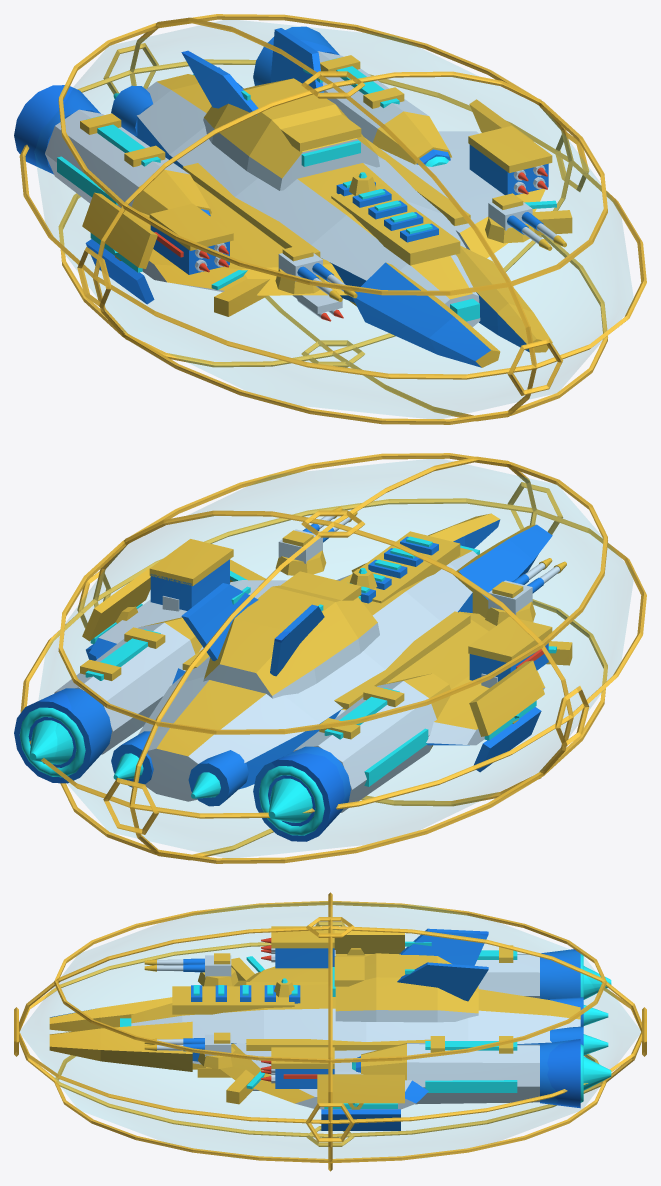
The model's file is horizon_tachyon_cruiser.obj.
3 renders of one model, top to bottom at view 1: azimuth 30°, elevation 25°; view 2: azimuth 150°, elevation 25°; view 3: azimuth 270°, elevation 25°, orthographic. The views are drawn at different scales.
Visible parts, largest first — view 1: Cruiser_Reinforced_Particle_Shield, Cruiser_Reinforced_Hull_Core, Cruiser_Particle_Shield_HexReinforcement, Cruiser_Cyan_Engine_Nacelles, Cruiser_Forward_Swept_Wings_And_Armor, Cruiser_Command_Bridge_And_Spine, Cruiser_Missile_Mounts, Cruiser_Laser_Mounts; view 2: Cruiser_Reinforced_Particle_Shield, Cruiser_Cyan_Engine_Nacelles, Cruiser_Particle_Shield_HexReinforcement, Cruiser_Reinforced_Hull_Core, Cruiser_Command_Bridge_And_Spine, Cruiser_Forward_Swept_Wings_And_Armor, Cruiser_Missile_Mounts, Cruiser_Laser_Mounts, Cruiser_Shield_Projectors; view 3: Cruiser_Reinforced_Particle_Shield, Cruiser_Reinforced_Hull_Core, Cruiser_Particle_Shield_HexReinforcement, Cruiser_Cyan_Engine_Nacelles, Cruiser_Command_Bridge_And_Spine, Cruiser_Forward_Swept_Wings_And_Armor, Cruiser_Missile_Mounts, Cruiser_Laser_Mounts, Cruiser_Shield_Projectors.
Boxes of the visible parts, x1=… form: Cruiser_Reinforced_Particle_Shield: x1=35, y1=20, x2=632, y2=418; Cruiser_Reinforced_Hull_Core: x1=135, y1=74, x2=552, y2=367; Cruiser_Particle_Shield_HexReinforcement: x1=19, y1=14, x2=646, y2=424; Cruiser_Cyan_Engine_Nacelles: x1=14, y1=26, x2=451, y2=216; Cruiser_Forward_Swept_Wings_And_Armor: x1=82, y1=99, x2=572, y2=316; Cruiser_Command_Bridge_And_Spine: x1=181, y1=28, x2=438, y2=242; Cruiser_Missile_Mounts: x1=149, y1=125, x2=552, y2=321; Cruiser_Laser_Mounts: x1=275, y1=193, x2=566, y2=301; Cruiser_Reinforced_Particle_Shield: x1=39, y1=459, x2=632, y2=857; Cruiser_Cyan_Engine_Nacelles: x1=14, y1=617, x2=450, y2=841; Cruiser_Particle_Shield_HexReinforcement: x1=20, y1=453, x2=646, y2=863; Cruiser_Reinforced_Hull_Core: x1=138, y1=513, x2=552, y2=801; Cruiser_Command_Bridge_And_Spine: x1=181, y1=536, x2=438, y2=698; Cruiser_Forward_Swept_Wings_And_Armor: x1=82, y1=559, x2=572, y2=772; Cruiser_Missile_Mounts: x1=149, y1=539, x2=552, y2=687; Cruiser_Laser_Mounts: x1=275, y1=507, x2=566, y2=625; Cruiser_Shield_Projectors: x1=116, y1=568, x2=520, y2=723; Cruiser_Reinforced_Particle_Shield: x1=20, y1=902, x2=640, y2=1158; Cruiser_Reinforced_Hull_Core: x1=49, y1=982, x2=580, y2=1077; Cruiser_Particle_Shield_HexReinforcement: x1=14, y1=892, x2=646, y2=1171; Cruiser_Cyan_Engine_Nacelles: x1=352, y1=945, x2=611, y2=1108; Cruiser_Command_Bridge_And_Spine: x1=191, y1=928, x2=488, y2=1022; Cruiser_Forward_Swept_Wings_And_Armor: x1=220, y1=930, x2=428, y2=1130; Cruiser_Missile_Mounts: x1=253, y1=926, x2=335, y2=1090; Cruiser_Laser_Mounts: x1=144, y1=953, x2=238, y2=1069; Cruiser_Shield_Projectors: x1=274, y1=948, x2=364, y2=1109.
Bounding box in the file's own units: 4.24 × 2.31 × 6.2.
